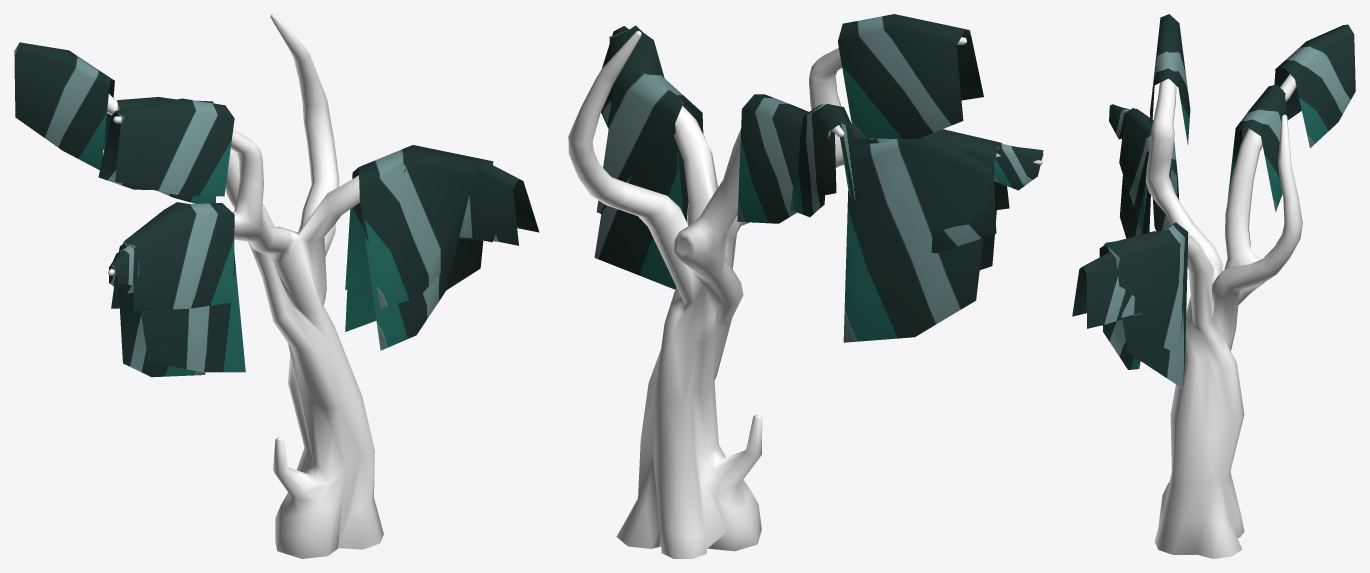
File: MDL_GMB_RiveTree.fbx
3 views of the same model, side by side, from view 1: azimuth 30°, elevation 25°; view 2: azimuth 150°, elevation 25°; view 3: azimuth 270°, elevation 25° (orthographic). The views are drawn at different scales.
Visible parts, largest first — view 1: MDL_GMB_Tree; view 2: MDL_GMB_Tree; view 3: MDL_GMB_Tree.
Boxes of the visible parts, <box> form: MDL_GMB_Tree: <box>14,14,539,558</box>; MDL_GMB_Tree: <box>568,14,1043,558</box>; MDL_GMB_Tree: <box>1072,14,1355,558</box>.
Bounding box in the file's own units: 1.65 × 1.87 × 1.13.
